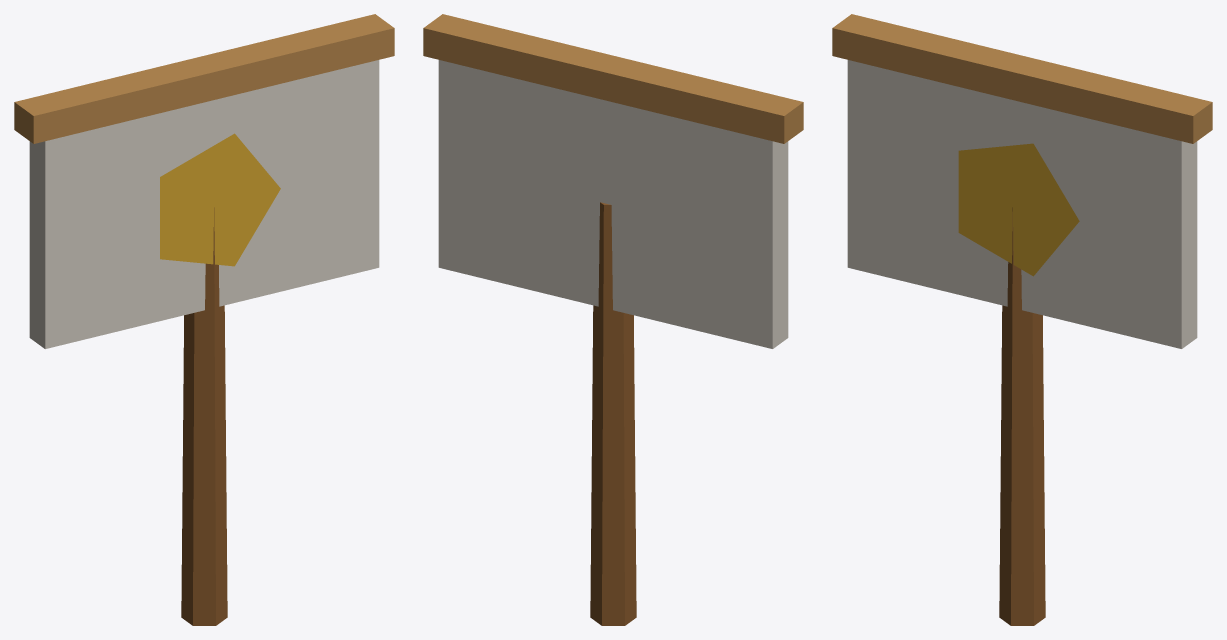
Rendered from mastery_sign.glb.
3 views of the same model, side by side, from view 1: azimuth 30°, elevation 25°; view 2: azimuth 150°, elevation 25°; view 3: azimuth 330°, elevation 25° (orthographic).
Parts seen in each view (by area): view 1: decor-mastery_sign; view 2: decor-mastery_sign; view 3: decor-mastery_sign.
Boxes of the visible parts, x1,y1,x2,y2 form: decor-mastery_sign: (14, 14, 394, 625); decor-mastery_sign: (423, 14, 803, 625); decor-mastery_sign: (832, 14, 1212, 625).
Size of the model in its own units: 1.08 by 1.58 by 0.12.
